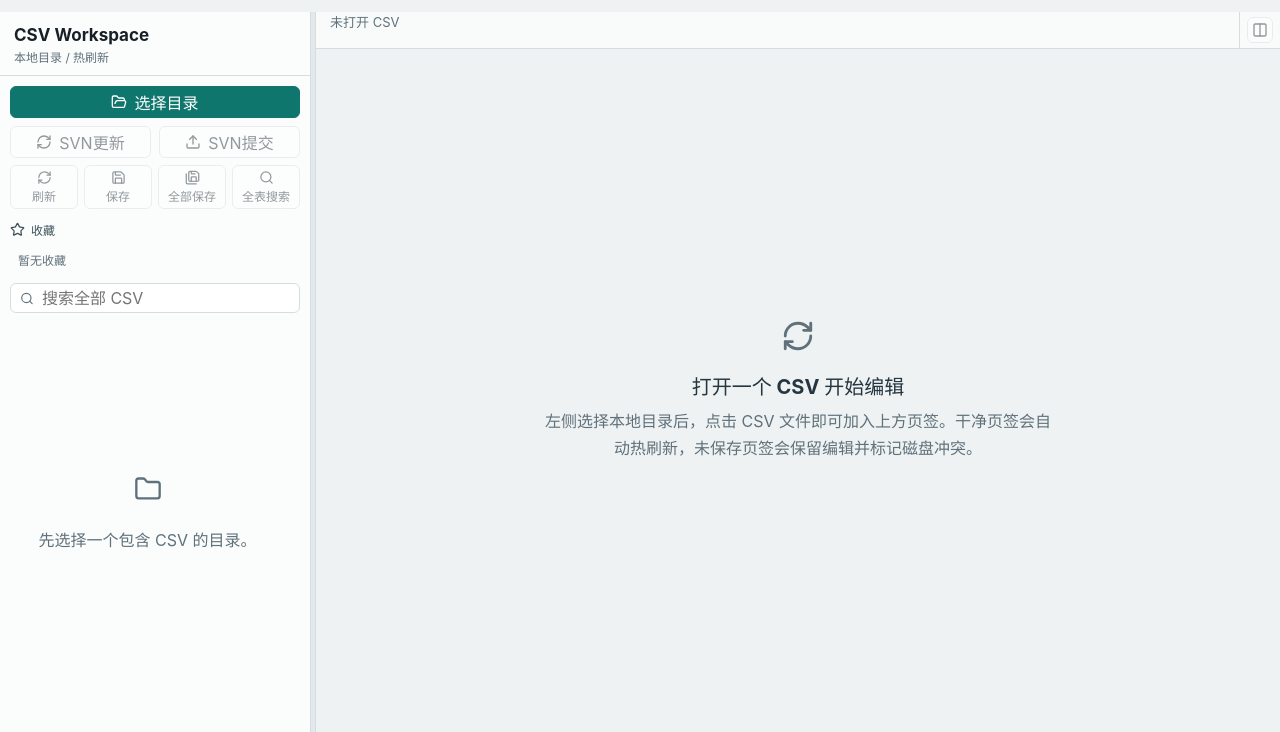
App local directory flow › finds CSV files inside unopened subdirectories when filtering
The image size is (1280, 732).
Click the button "选择目录".
click(155, 102)  # box [10,86,300,118]
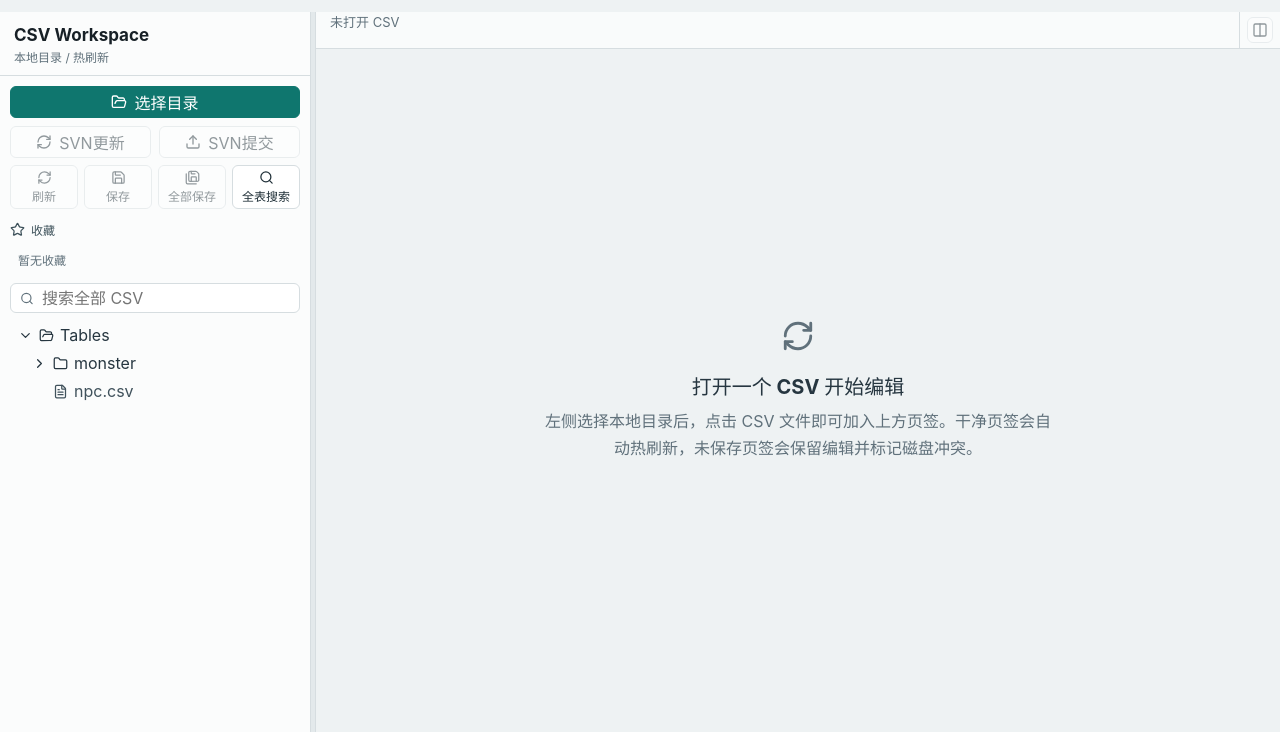
Expected: the button "rare_monster.csv" is not shown
Now the button "monster" is shown, box [8,349,287,377]
Type "rare_monster" into the field labelled "搜索全部 CSV".
click(165, 298); type("rare_monster")  # box [40,287,290,309]
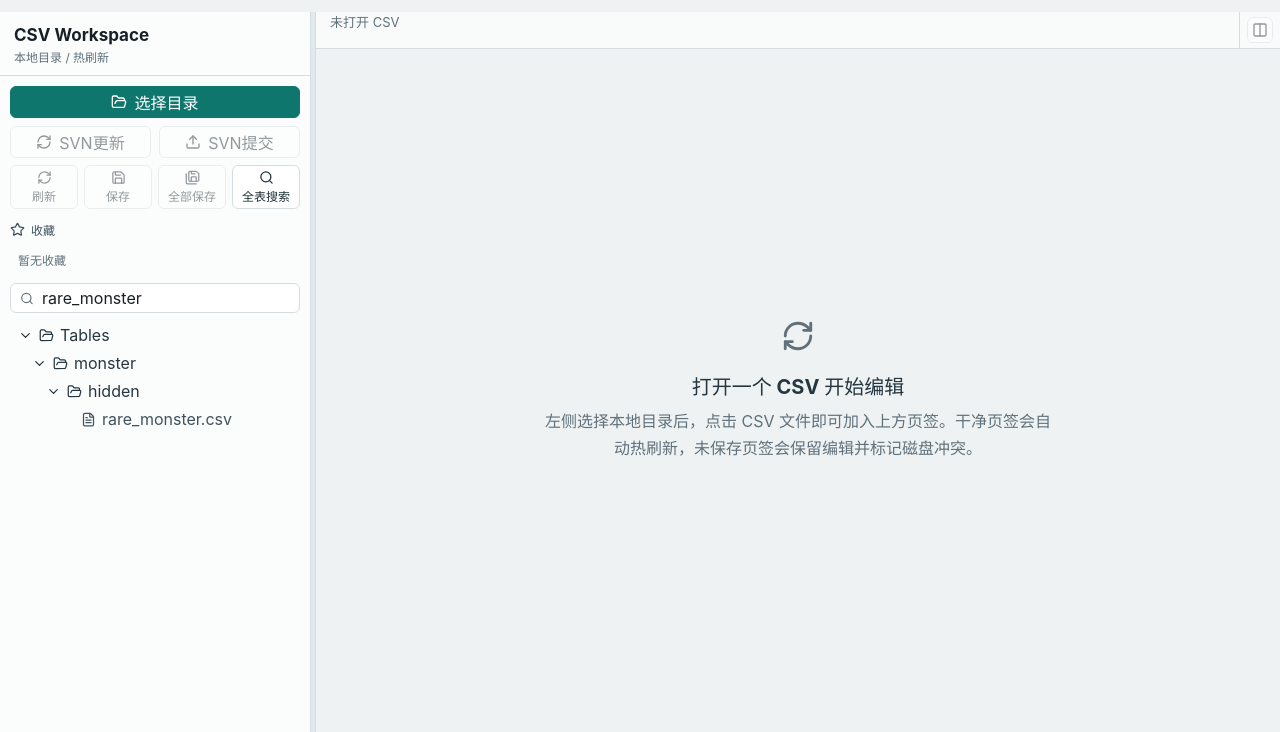
Now the button "hidden" is shown, box [8,377,287,405]
Now the button "rare_monster.csv" is shown, box [8,405,287,433]
